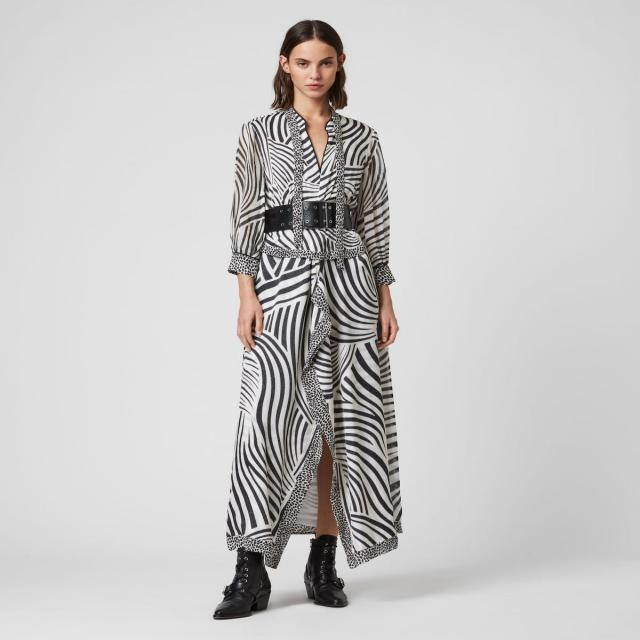clothes: (211, 107, 412, 578)
